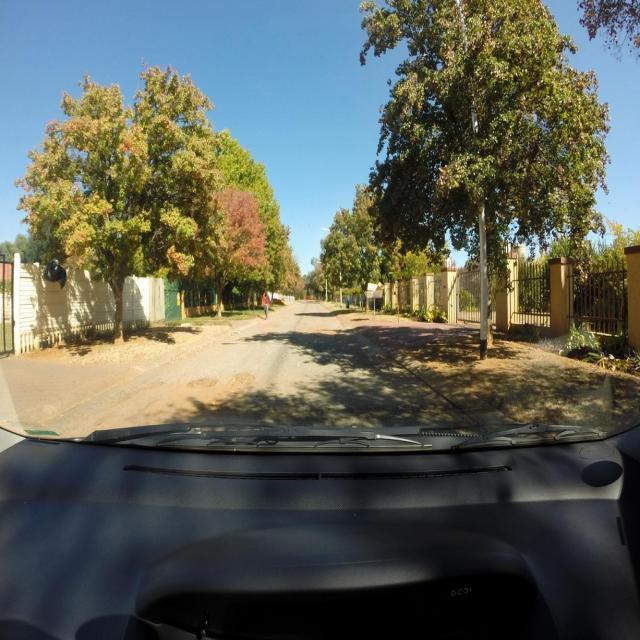pothole: (228, 373, 255, 386), (187, 378, 219, 388)
